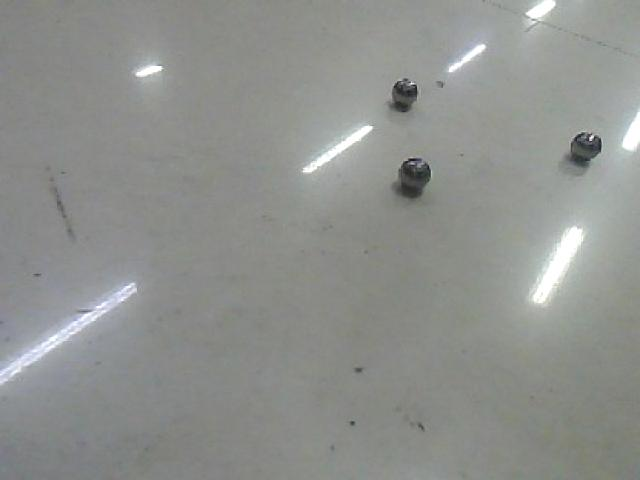steel-ball: (382, 60, 431, 129), (562, 114, 608, 181), (384, 146, 438, 194)
